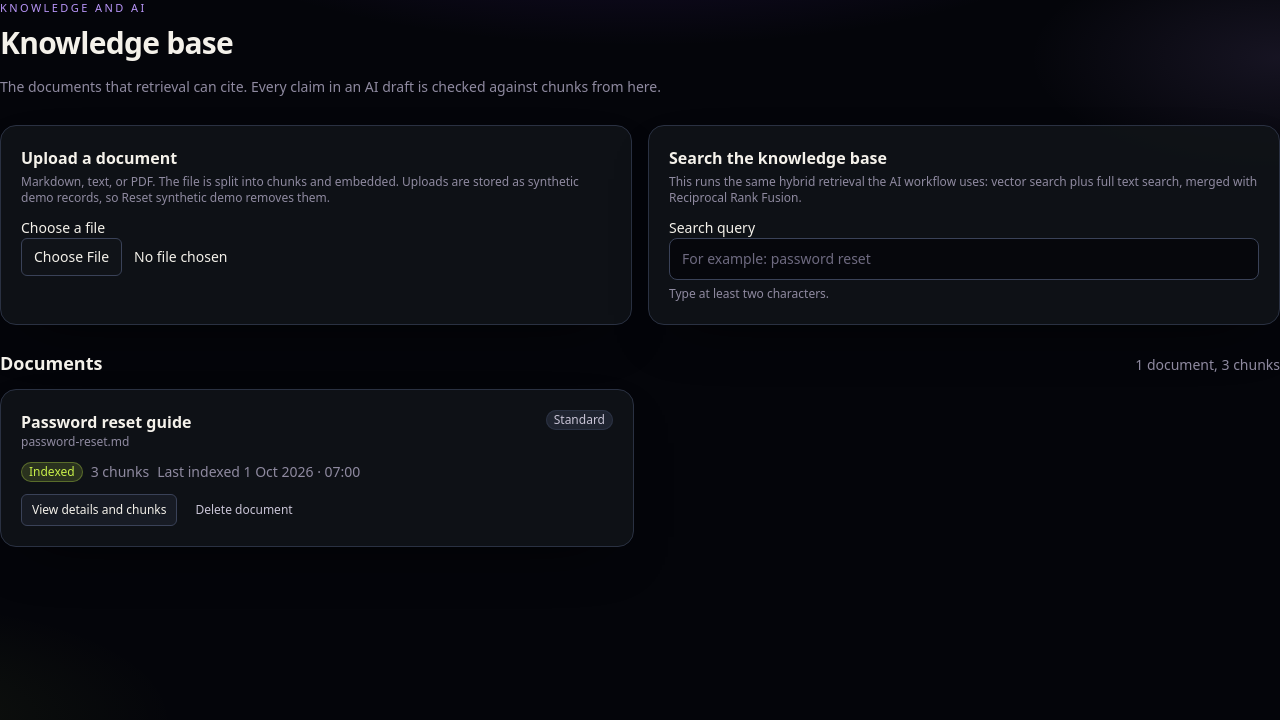
Test: secondary pages › KnowledgePage › shows documents, opens an accessible details drawer, and lists chunks
Expected: the heading "Password reset guide" is shown, [21,410,192,434]
Expected: the text with test id "knowledge-count" reads "1 document, 3 chunks", [1135,354,1279,374]
Click the button "View details and chunks": [99, 510] box [21,494,178,526]
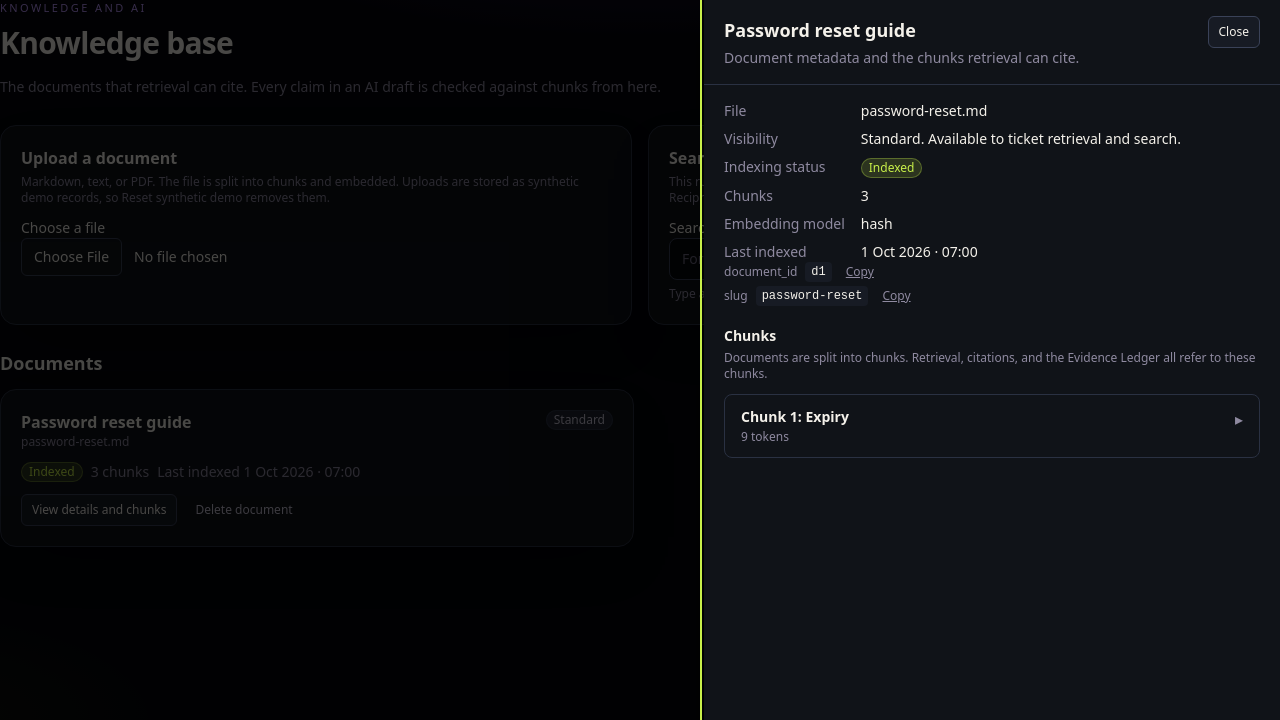
Expected: the text "Chunk 1: Expiry" is shown, [741,407,849,427]
Press Escape
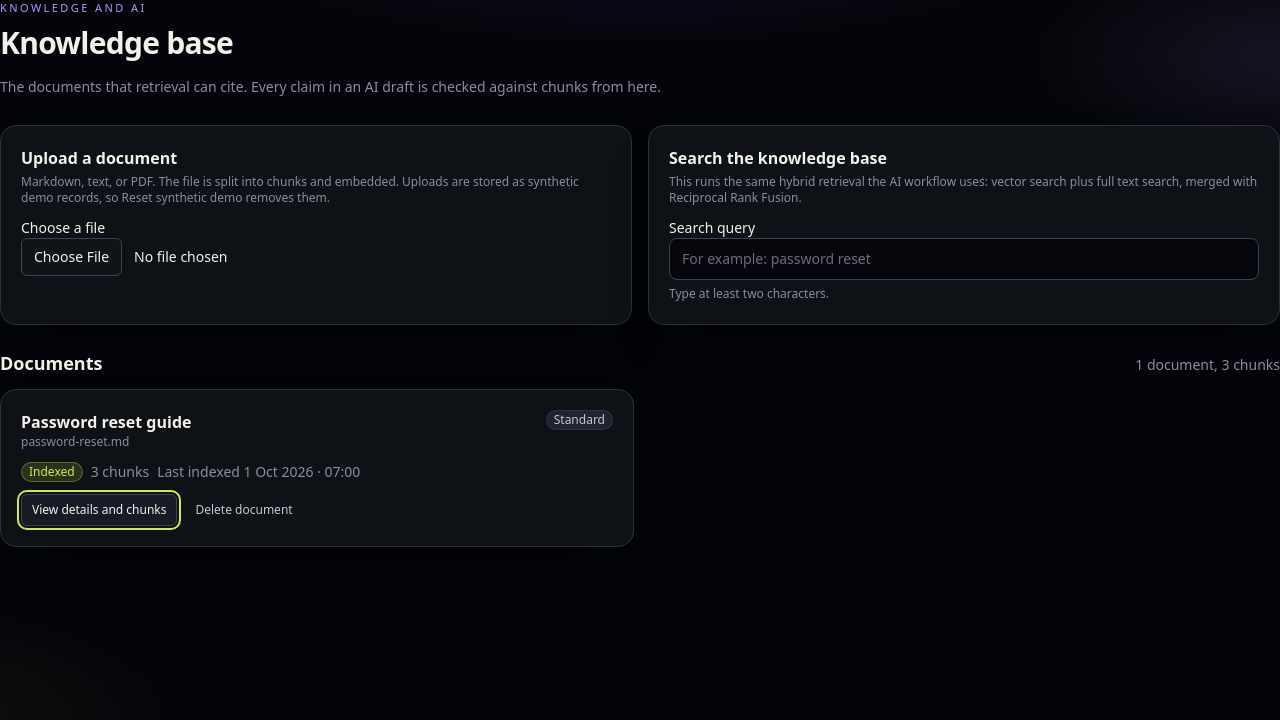
Expected: the dialog is gone
